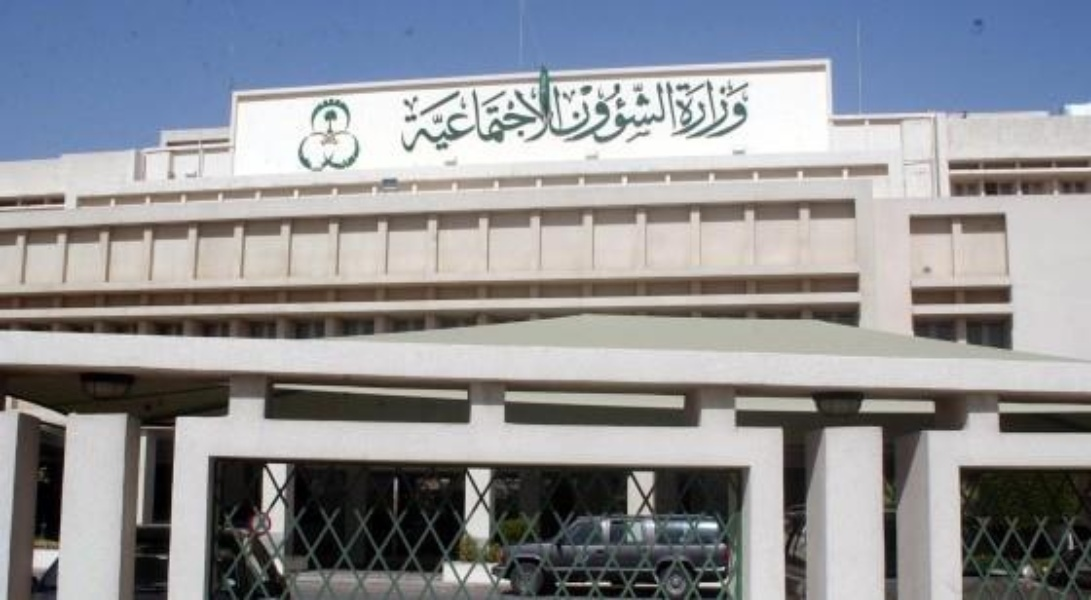text: (561, 76, 576, 154), (577, 76, 592, 154), (593, 76, 608, 154), (609, 76, 624, 154), (625, 76, 640, 154), (641, 76, 656, 154), (657, 76, 672, 154), (401, 82, 416, 152), (417, 82, 432, 152), (433, 82, 448, 152), (449, 82, 464, 152), (465, 82, 480, 152), (481, 82, 496, 152), (497, 82, 512, 152), (513, 82, 528, 152), (529, 82, 544, 152), (545, 82, 560, 152), (689, 78, 704, 145), (705, 78, 720, 145), (721, 78, 736, 145), (737, 78, 749, 145), (550, 76, 560, 154), (677, 78, 688, 145), (561, 82, 567, 152), (673, 76, 678, 154)
